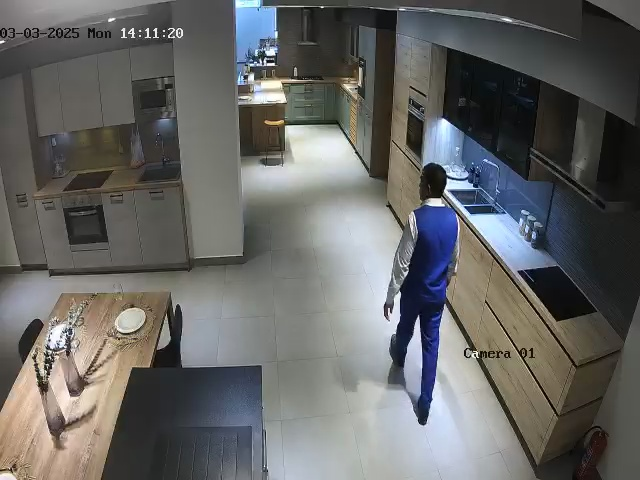employee: (383, 162, 460, 426)
